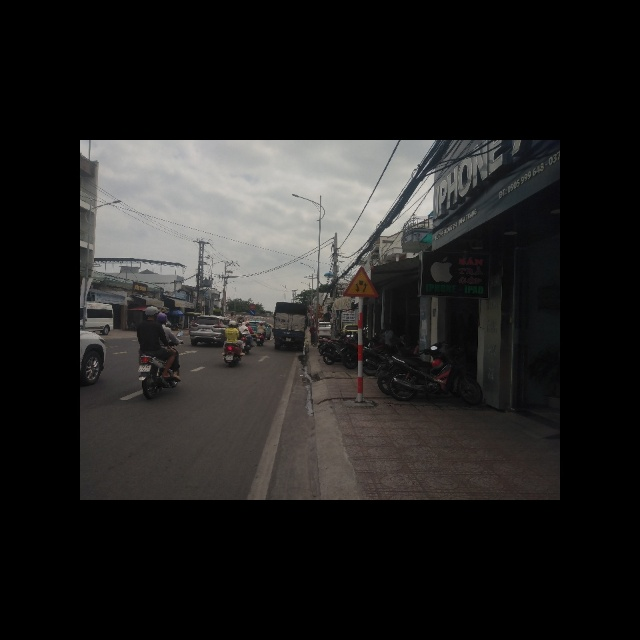Đường đôi: (341, 265, 379, 300)
